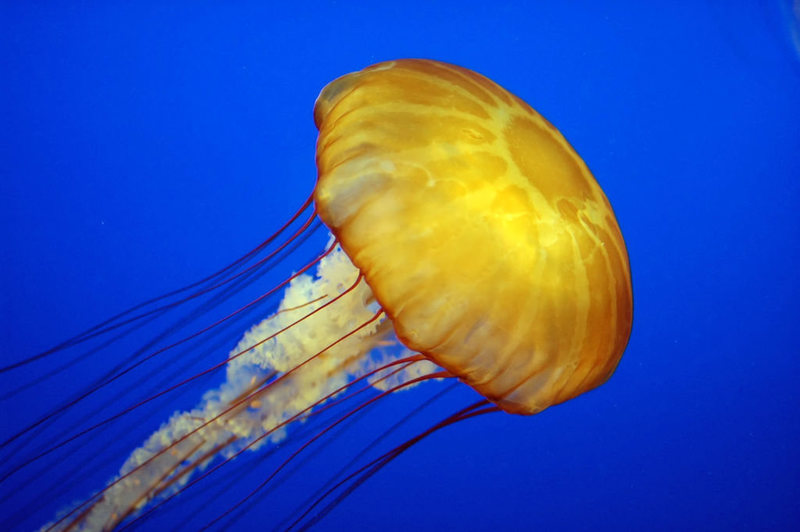jellyfish: (10, 57, 638, 532)
